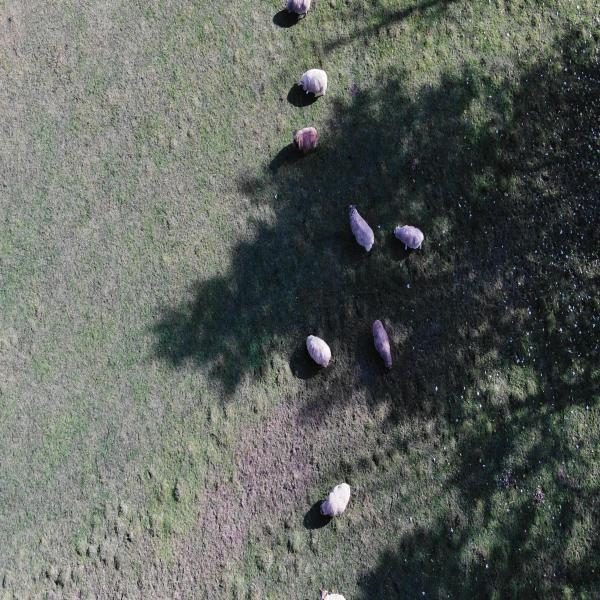sheep: (368, 311, 400, 382), (344, 194, 379, 258), (298, 329, 339, 383), (390, 207, 428, 262), (320, 472, 351, 524), (283, 122, 324, 159), (296, 64, 332, 100), (286, 0, 311, 27)
